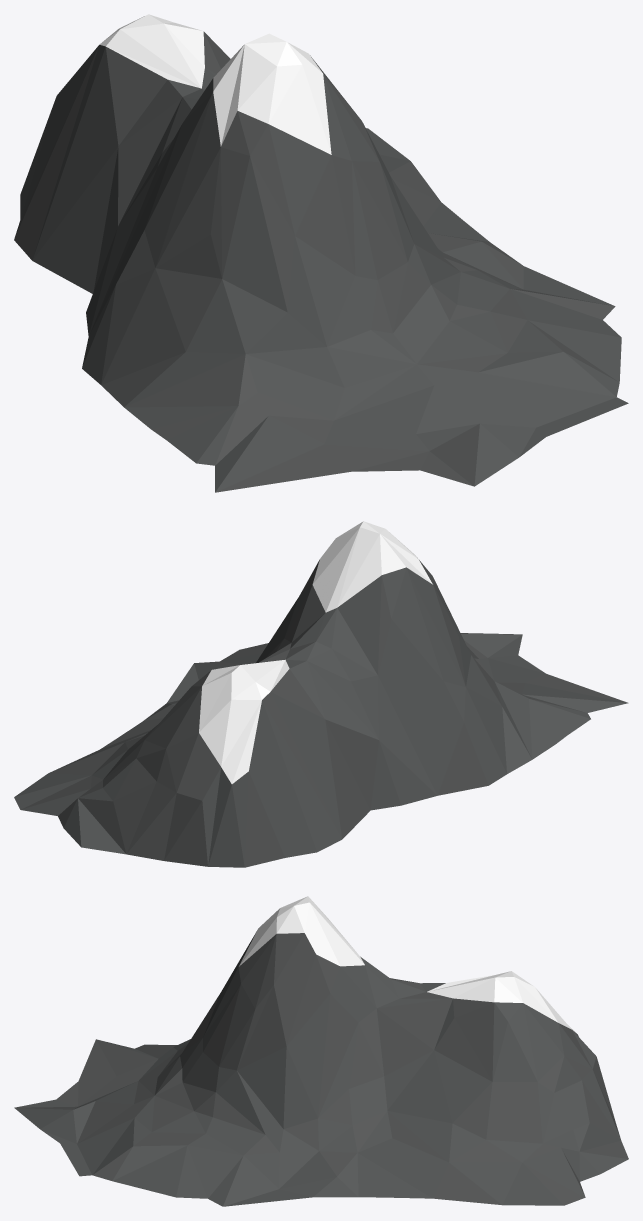
The model's file is obj_mountain1.fbx.
3 views of the same model, one above another, from view 1: azimuth 30°, elevation 25°; view 2: azimuth 150°, elevation 25°; view 3: azimuth 270°, elevation 25° (orthographic). The views are drawn at different scales.
Visible parts, largest first — view 1: obj_mountain1; view 2: obj_mountain1; view 3: obj_mountain1.
Boxes of the visible parts, x1,y1,x2,y2 form: obj_mountain1: (14, 14, 628, 492); obj_mountain1: (14, 521, 628, 867); obj_mountain1: (14, 896, 628, 1206).
Size of the model in its own units: 61.04 by 35.23 by 94.67.
1 material, 1 textured.
